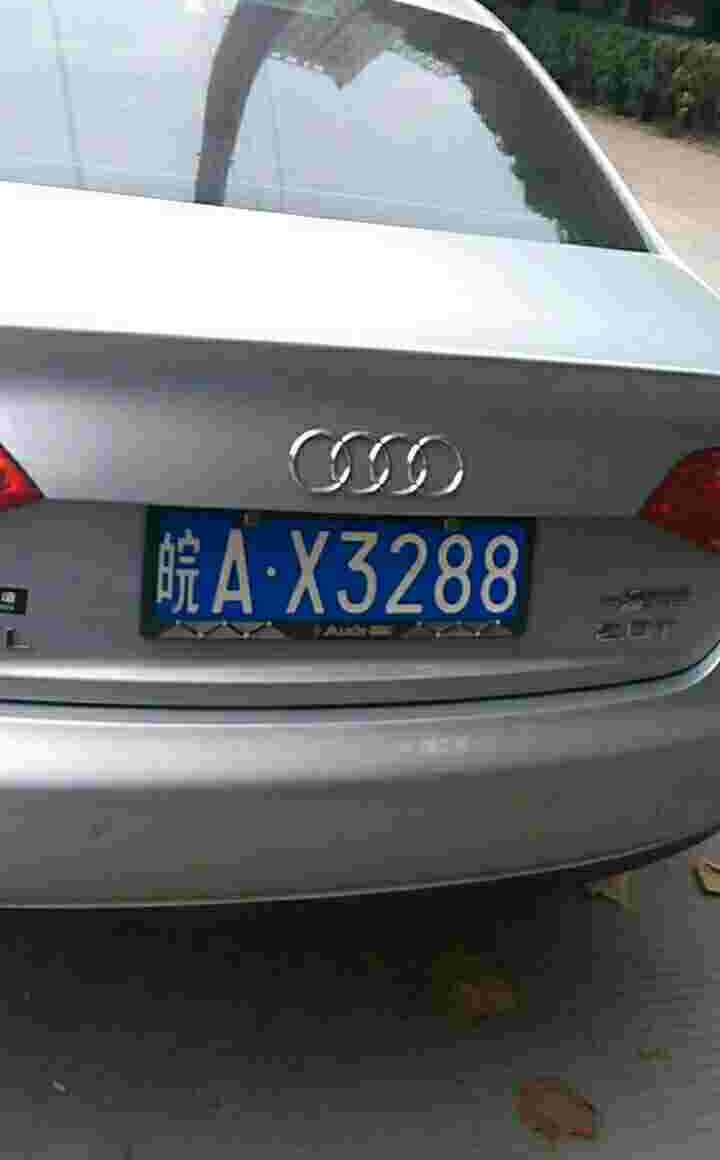license_plate: (156, 513, 532, 638)
